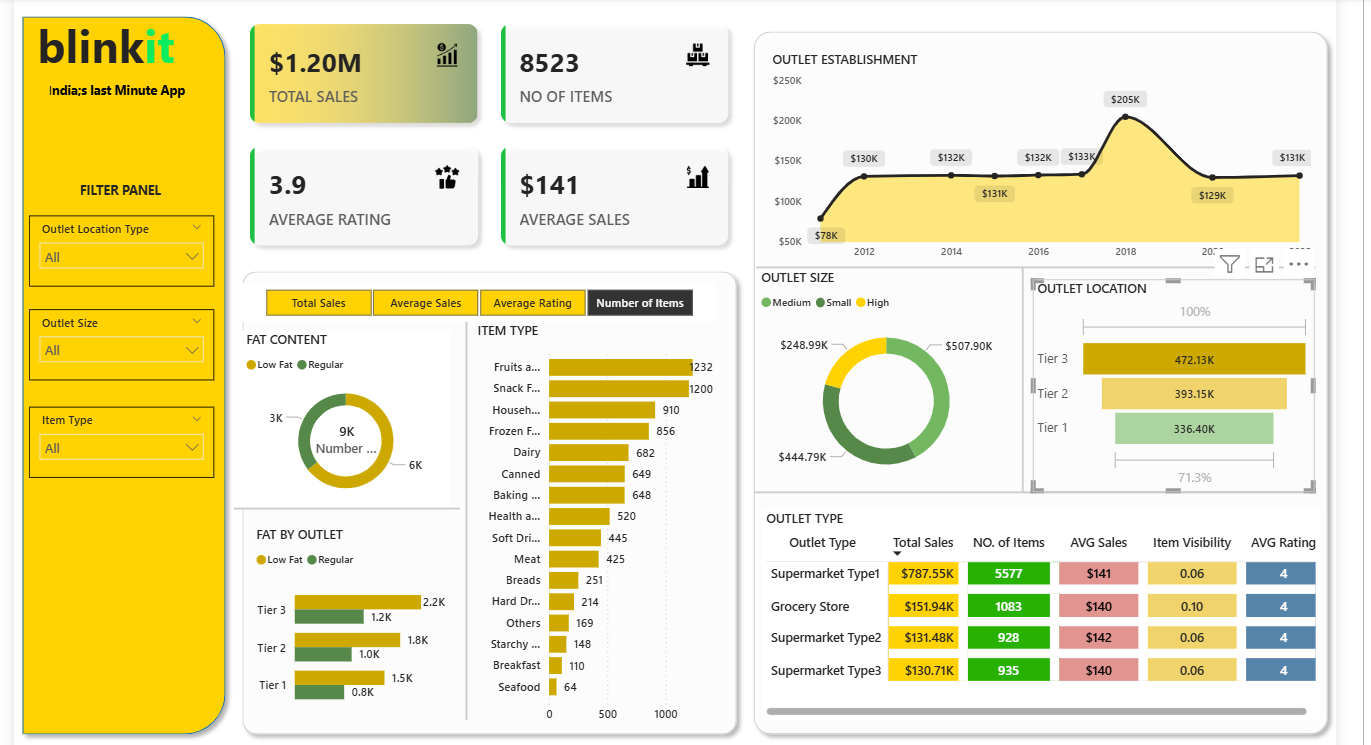

The page's visual inventory and layout, read from the dashboard file:
{"tool":"powerbi","page":{"name":"Page 1","canvas":[1400,800],"ordinal":0},"visuals":[{"type":"shape","box":[0,10.6,232.8,777.8],"z":0},{"type":"textbox","box":[19.8,11.9,220.9,87.3],"z":1000},{"type":"textbox","box":[31.7,83.3,243.4,31.7],"z":2000},{"type":"cardVisual","fields":{"Data":["BlinkIT Grocery Data.Total Sales","BlinkIT Grocery Data.Number of Items","BlinkIT Grocery Data.Averafe Rating","BlinkIT Grocery Data.Average Sales"]},"box":[232.8,10.6,541,269.8],"z":3000},{"type":"shape","box":[232.8,280.4,541,507.9],"z":4000},{"type":"donutChart","title":"FAT CONTENT","fields":{"Y":["BlinkIT Grocery Data.Average Rating"],"Category":["BlinkIT Grocery Data.Item Fat Content"]},"box":[240.7,351.9,220.9,189.2],"z":5000},{"type":"slicer","fields":{"Values":["Metrics.Metrics"]},"box":[240.7,301.6,501.3,41],"z":6000},{"type":"cardVisual","fields":{"Data":["BlinkIT Grocery Data.Average Rating"]},"box":[301.6,432.5,101.9,55.6],"z":7000},{"type":"clusteredBarChart","title":"FAT BY OUTLET","fields":{"Y":["BlinkIT Grocery Data.Average Rating"],"Category":["BlinkIT Grocery Data.Outlet Location Type"],"Series":["BlinkIT Grocery Data.Item Fat Content"]},"box":[251.3,558.2,210.3,206.4],"z":8000},{"type":"shape","box":[232.8,522.5,239.4,35.7],"z":9000},{"type":"shape","box":[472.2,342.6,13.2,422],"z":10000},{"type":"barChart","title":"ITEM TYPE","fields":{"Y":["BlinkIT Grocery Data.Average Rating"],"Category":["BlinkIT Grocery Data.Item Type"]},"box":[485.5,342.6,272.5,433.9],"z":11000},{"type":"shape","box":[773.8,26.5,625.7,761.9],"z":12000},{"type":"lineChart","title":"OUTLET ESTABLISHMENT","fields":{"Category":["BlinkIT Grocery Data.Outlet Establishment Year"],"Y":["BlinkIT Grocery Data.Total Sales"]},"box":[797.6,55.6,580,230],"z":13000},{"type":"shape","box":[785.7,267.2,591.3,35.7],"z":14000},{"type":"donutChart","title":"OUTLET SIZE","fields":{"Category":["BlinkIT Grocery Data.Outlet Size"],"Y":["BlinkIT Grocery Data.Total Sales"]},"box":[785.7,285.7,275.1,236.8],"z":15000},{"type":"shape","box":[1060.9,285.7,13.2,236.8],"z":16000},{"type":"funnel","title":"OUTLET LOCATION","fields":{"Category":["BlinkIT Grocery Data.Outlet Location Type"],"Y":["Sum(BlinkIT Grocery Data.Sales)"]},"box":[1078,297.6,298.9,224.9],"z":17000},{"type":"shape","box":[783.1,505.3,591.3,35.7],"z":18000},{"type":"pivotTable","title":"OUTLET TYPE","fields":{"Rows":["BlinkIT Grocery Data.Outlet Type"],"Values":["BlinkIT Grocery Data.Total Sales","BlinkIT Grocery Data.Number of Items","BlinkIT Grocery Data.Average Sales","Avg(BlinkIT Grocery Data.Item Visibility)","BlinkIT Grocery Data.Average Rating"]},"box":[791,541,591.3,223.5],"z":19000},{"type":"slicer","fields":{"Values":["BlinkIT Grocery Data.Outlet Location Type"]},"box":[15.9,230.2,195.8,75.4],"z":20000},{"type":"slicer","fields":{"Values":["BlinkIT Grocery Data.Outlet Size"]},"box":[15.9,329.4,195.8,75.4],"z":21000},{"type":"slicer","fields":{"Values":["BlinkIT Grocery Data.Item Type"]},"box":[15.9,432.5,195.8,75.4],"z":22000},{"type":"textbox","box":[64.8,189.2,103.2,30.4],"z":23000}]}

Visuals, with their boxes on the page's 1400x800 design canvas (x1, y1, x2, y2). These are canvas units, not pixel positions in the 1371x745 screenshot, which may show the page scaled, cropped or inside an application window:
shape: 0,11,233,788
textbox: 20,12,241,99
textbox: 32,83,275,115
cardVisual - BlinkIT Grocery Data.Total Sales x BlinkIT Grocery Data.Number of Items: 233,11,774,280
shape: 233,280,774,788
"FAT CONTENT" donutChart: 241,352,462,541
slicer - Metrics.Metrics: 241,302,742,343
cardVisual - BlinkIT Grocery Data.Average Rating: 302,432,404,488
"FAT BY OUTLET" clusteredBarChart: 251,558,462,765
shape: 233,522,472,558
shape: 472,343,485,765
"ITEM TYPE" barChart: 486,343,758,776
shape: 774,26,1400,788
"OUTLET ESTABLISHMENT" lineChart: 798,56,1378,286
shape: 786,267,1377,303
"OUTLET SIZE" donutChart: 786,286,1061,522
shape: 1061,286,1074,522
"OUTLET LOCATION" funnel: 1078,298,1377,522
shape: 783,505,1374,541
"OUTLET TYPE" pivotTable: 791,541,1382,764
slicer - BlinkIT Grocery Data.Outlet Location Type: 16,230,212,306
slicer - BlinkIT Grocery Data.Outlet Size: 16,329,212,405
slicer - BlinkIT Grocery Data.Item Type: 16,432,212,508
textbox: 65,189,168,220
